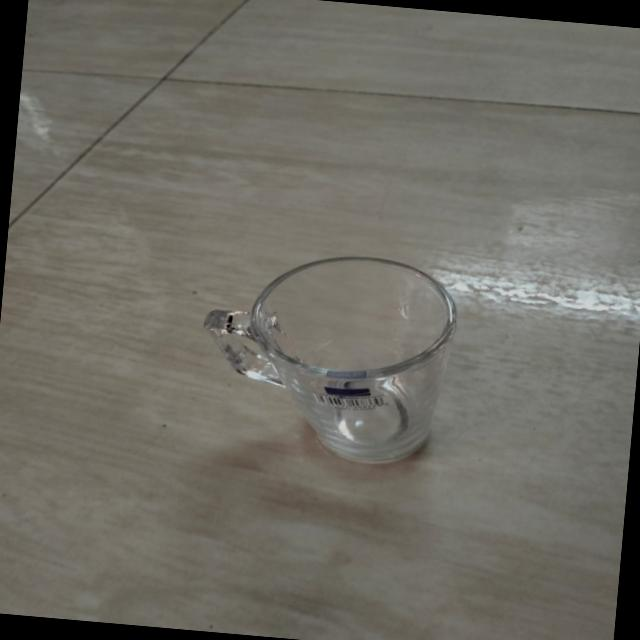glass-VX4N: (188, 243, 459, 472)
